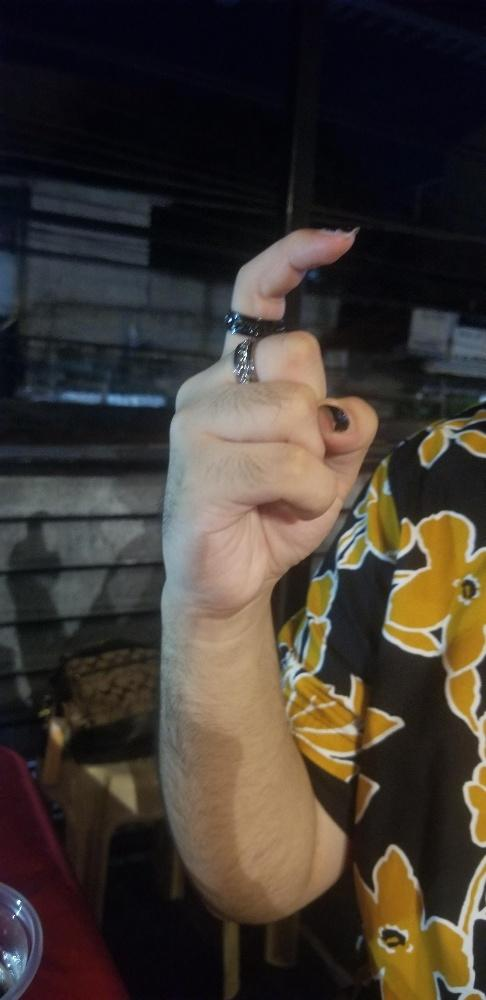x: (158, 224, 379, 607)
